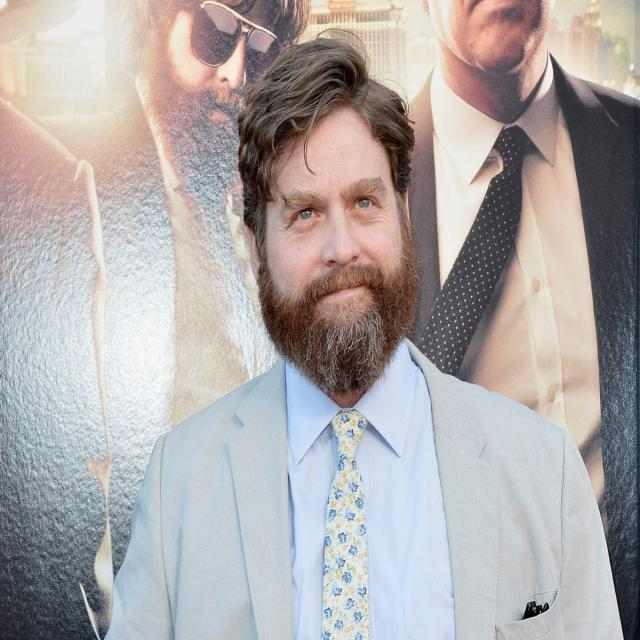human: (106, 38, 631, 640)
